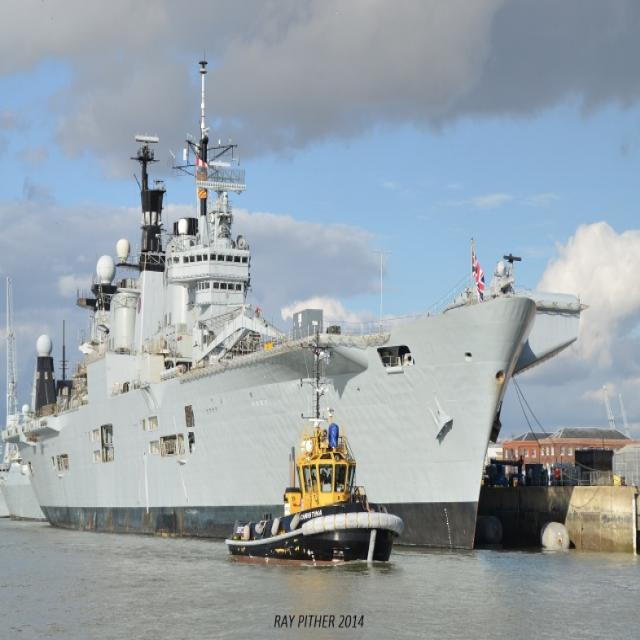Portanaves: (8, 38, 588, 558)
